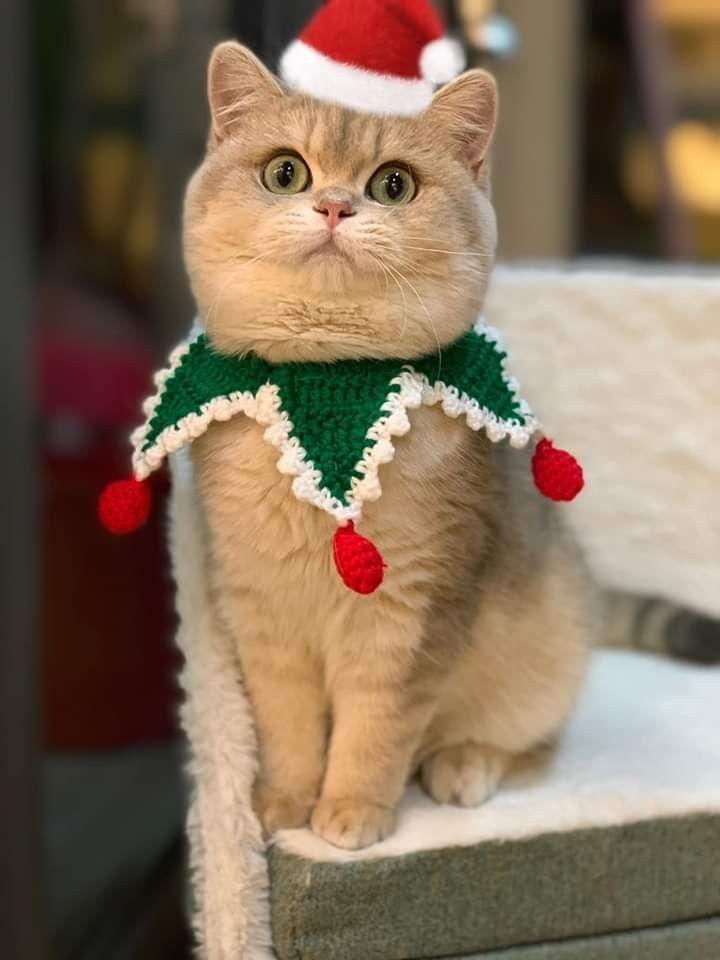kedo: (194, 44, 586, 845)
